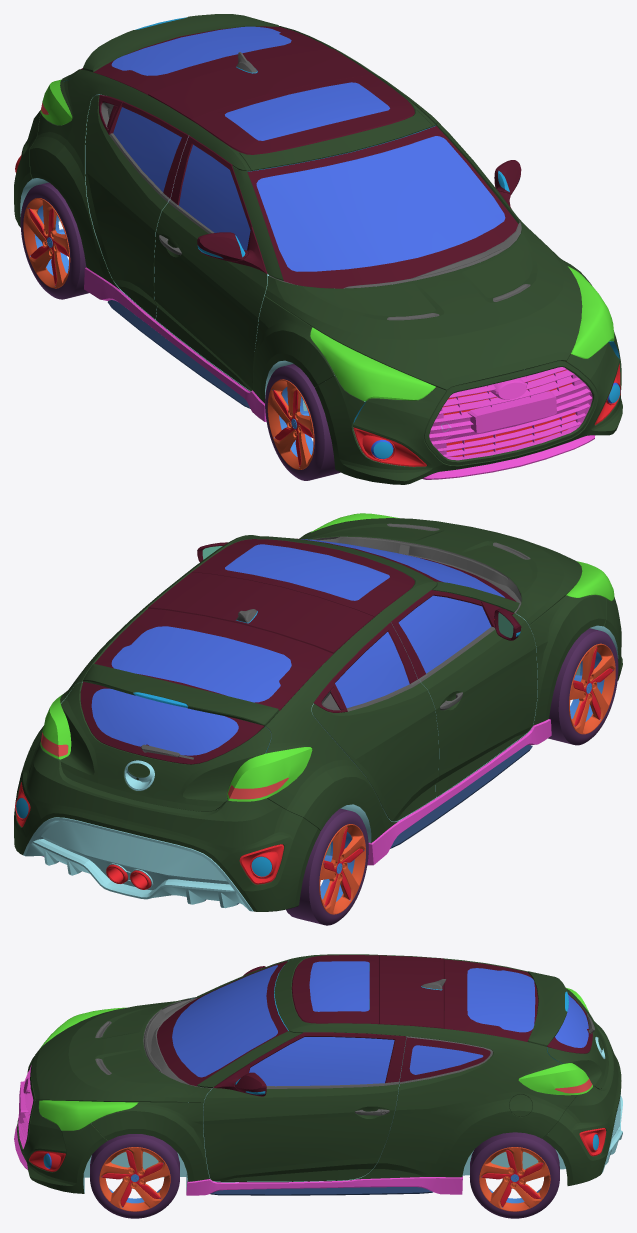
The model's file is car_model.fbx.
The picture shows the model from 3 angles, top to bottom: view 1: azimuth 30°, elevation 25°; view 2: azimuth 150°, elevation 25°; view 3: azimuth 270°, elevation 25°; orthographic projection. The views are drawn at different scales.
Parts seen in each view (by area): view 1: Body, Wheel_F_R, Wheel_B_R; view 2: Body, Wheel_B_R, Wheel_F_R; view 3: Body, Wheel_B_L, Wheel_F_L.
Boxes of the visible parts, box(x1,y1,x2,y2) form: Body: box(14, 14, 622, 484); Wheel_F_R: box(265, 364, 340, 480); Wheel_B_R: box(20, 182, 88, 299); Body: box(14, 513, 622, 911); Wheel_B_R: box(286, 808, 368, 925); Wheel_F_R: box(548, 628, 618, 745); Body: box(14, 954, 622, 1195); Wheel_B_L: box(469, 1132, 559, 1218); Wheel_F_L: box(90, 1134, 179, 1218).
Size of the model in its own units: 195 by 140 by 417.
